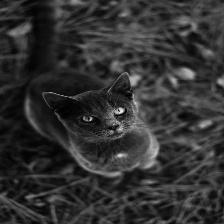kedo: (45, 75, 138, 142)
